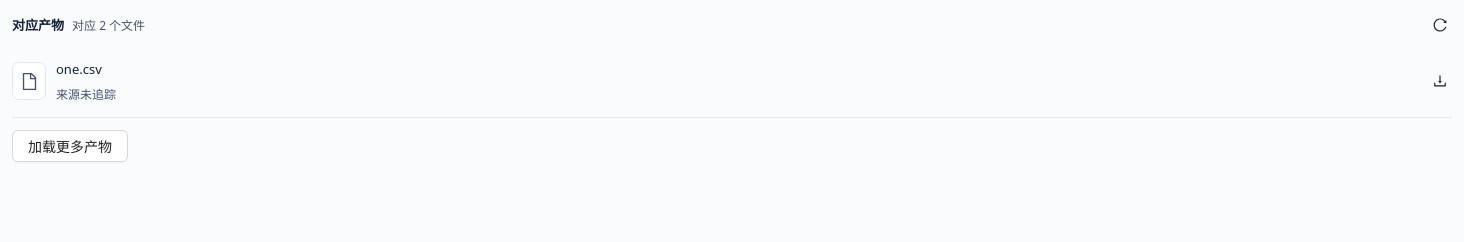
Test: PlanTaskArtifacts lightweight listing › retains first-page files if loading another page fails
Click the button "加载更多产物" at (70, 146), box left=12, top=130, right=128, bottom=162
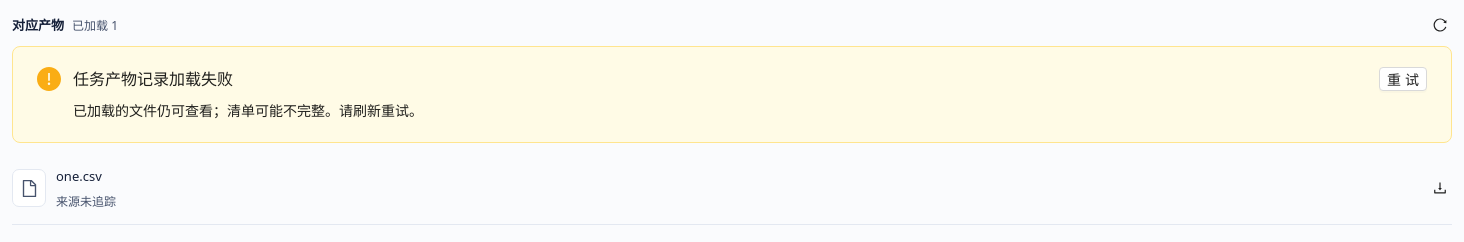
Expected: the button "one.csv" is enabled, left=56, top=165, right=102, bottom=187
Now the text "已加载 1" is shown, box left=72, top=17, right=118, bottom=34
